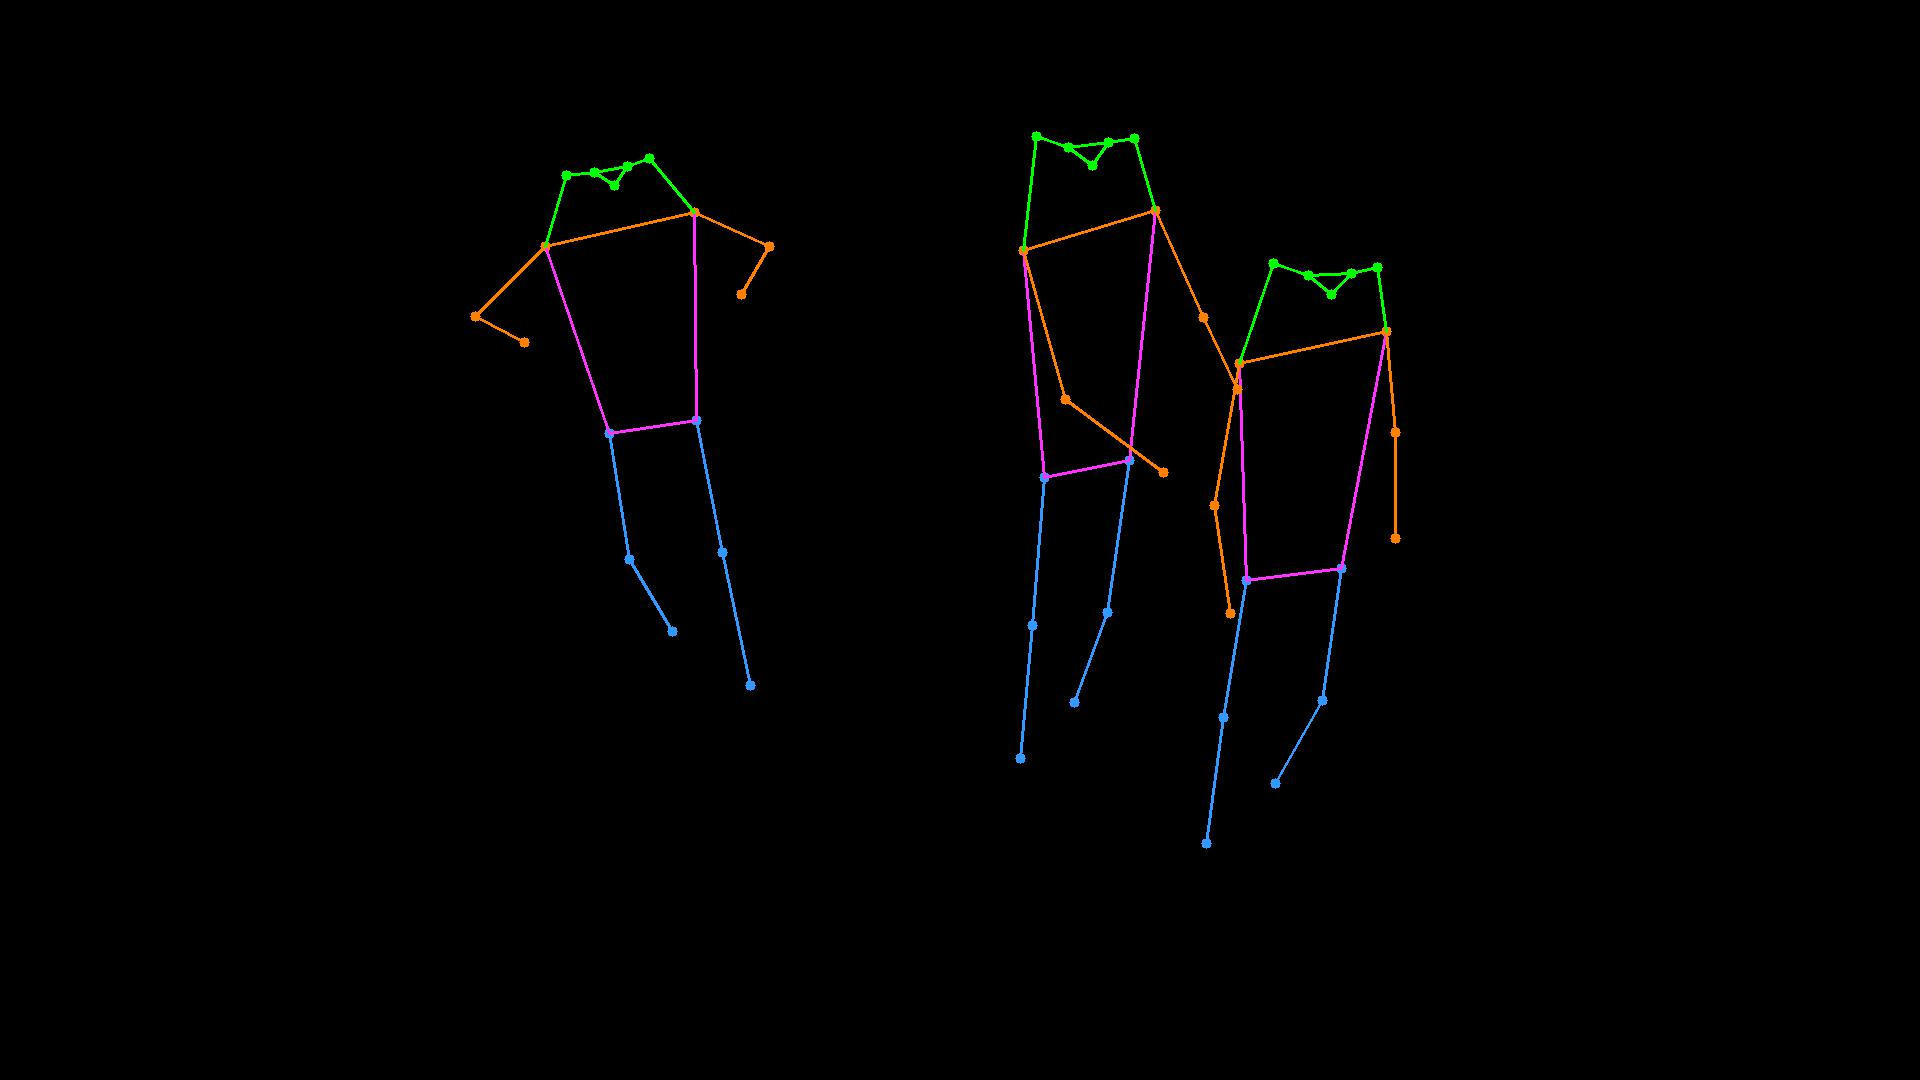normal: (935, 102, 1449, 894), (451, 127, 837, 727)
